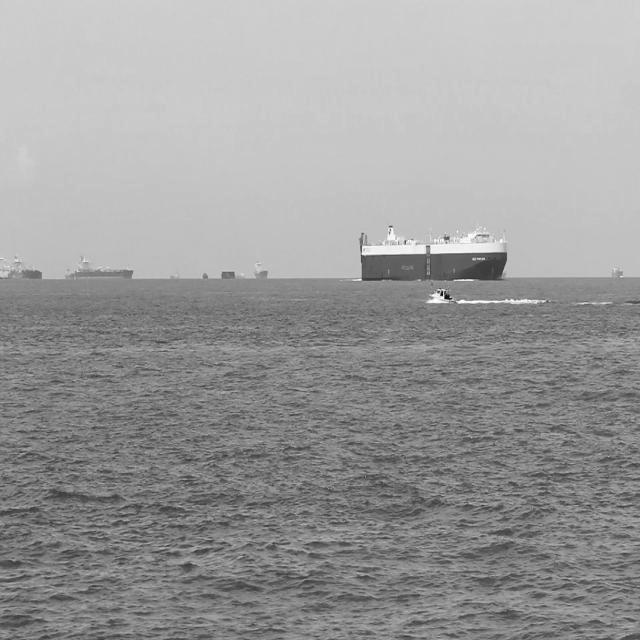ship: (358, 215, 510, 288), (73, 252, 136, 282), (0, 251, 46, 282), (428, 280, 460, 311), (252, 255, 271, 281), (608, 258, 626, 283), (60, 262, 74, 280), (503, 258, 508, 281)
